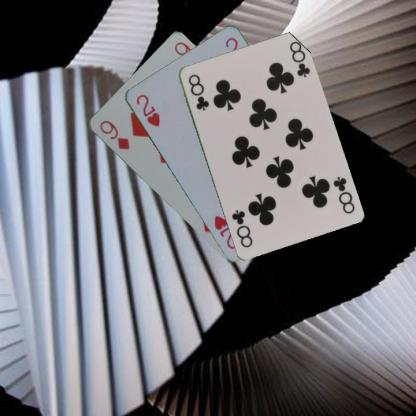2h: (133, 92, 161, 128)
8c: (330, 173, 356, 215), (185, 71, 210, 112)
9d: (96, 118, 130, 152)
